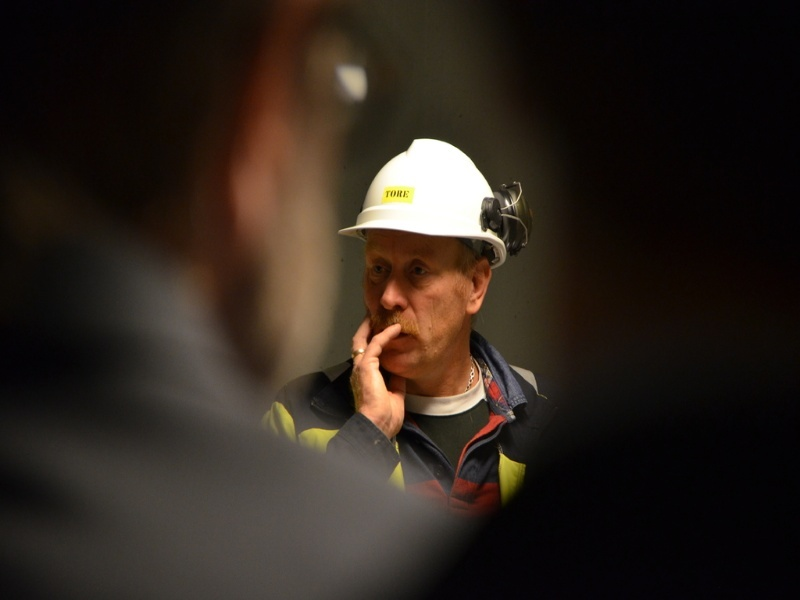Baret: (337, 135, 511, 273)
